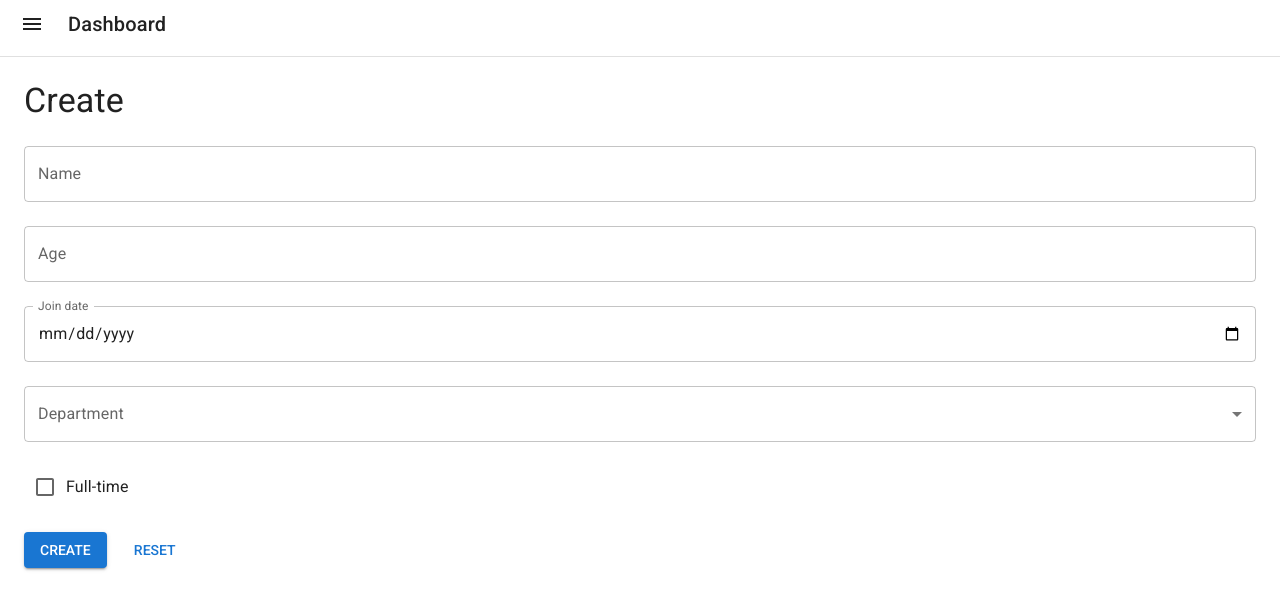
Scenario: EmployeeCreatePage › 作成失敗時はエラーを出して遷移しない
In the field labelled "Name": (640, 174) [24,146,1256,202], type "Ada Lovelace"
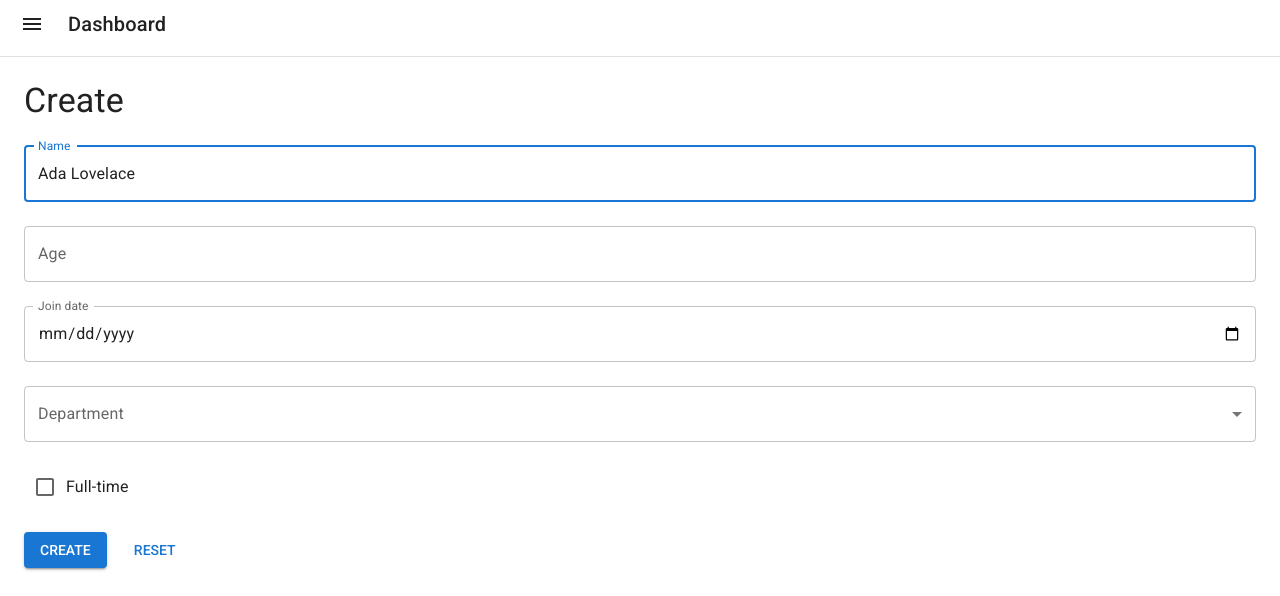
In the number field labelled "Age": (640, 254) [24,226,1256,282], type "36"
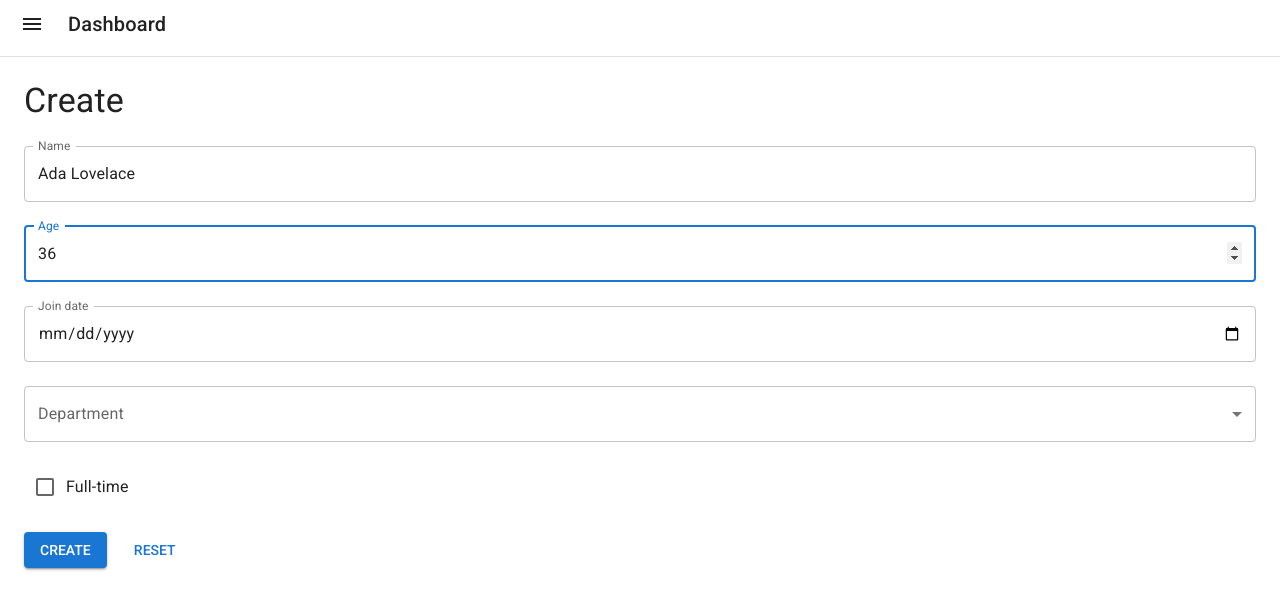
In the date field labelled "Join date": (640, 334) [24,306,1256,362], type "2026-01-15"
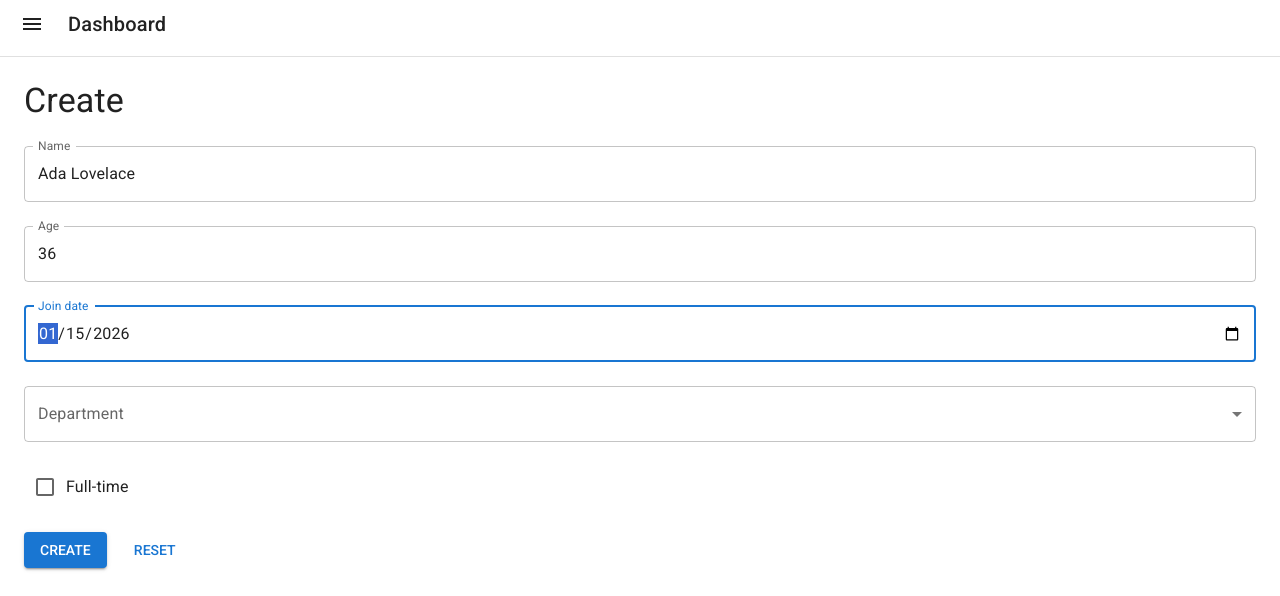
Click the dropdown named "Department": (640, 414) [24,386,1256,442]
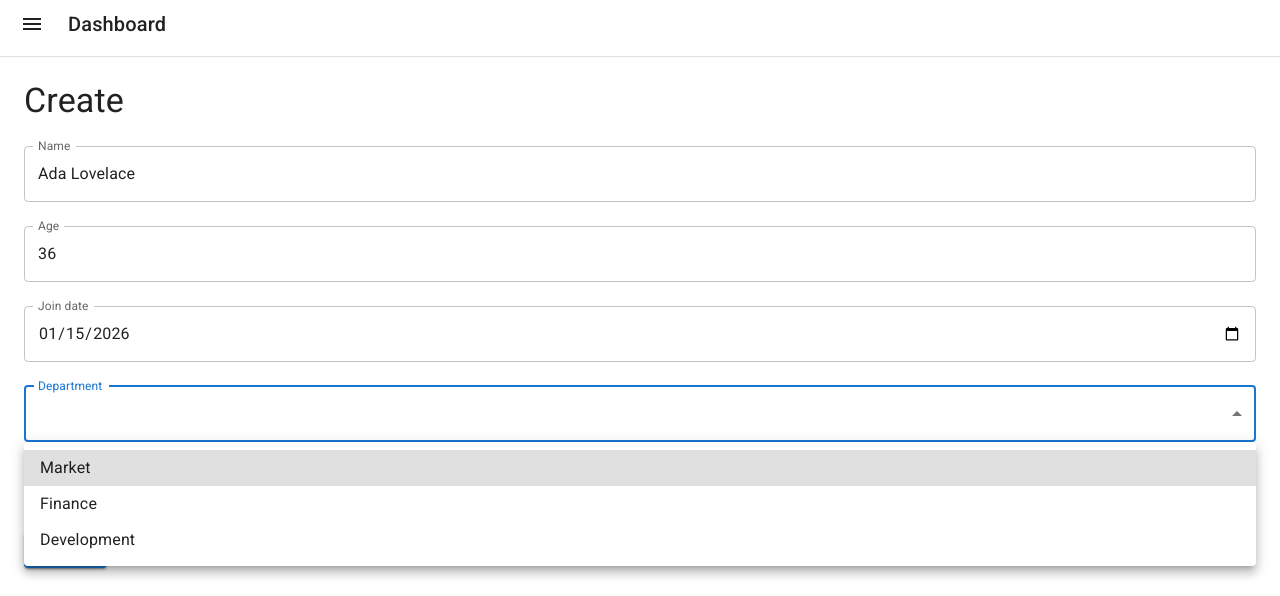
Click the option "Development": (88, 540) [40,530,135,549]
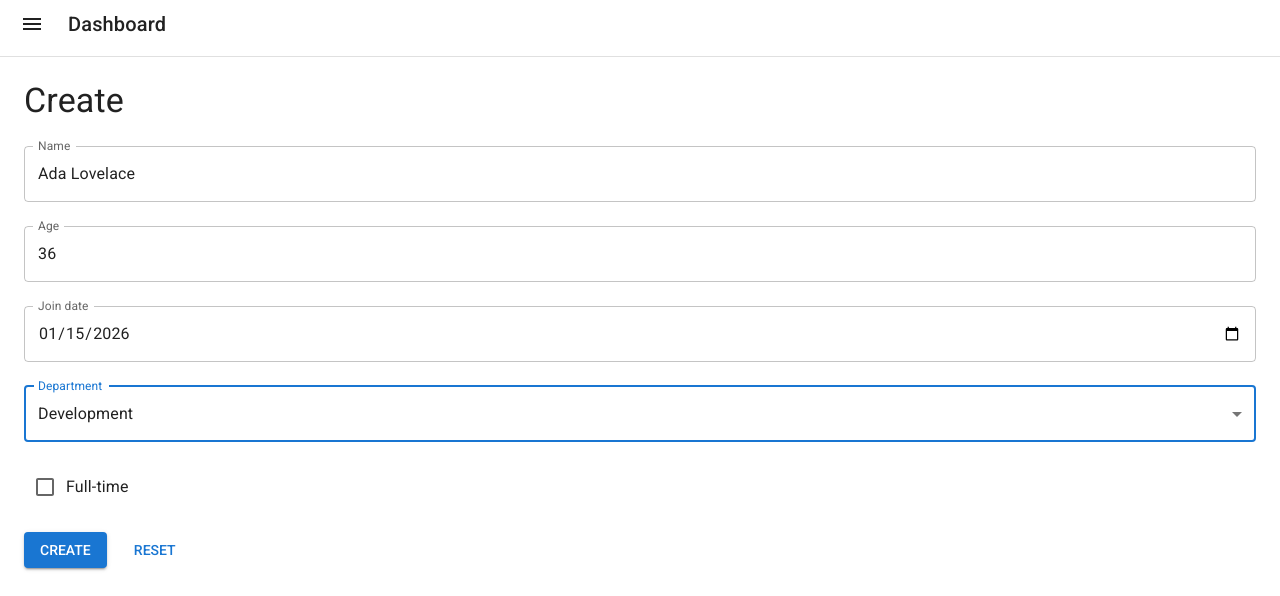
Click the button "Create": (65, 550) [24,532,107,568]
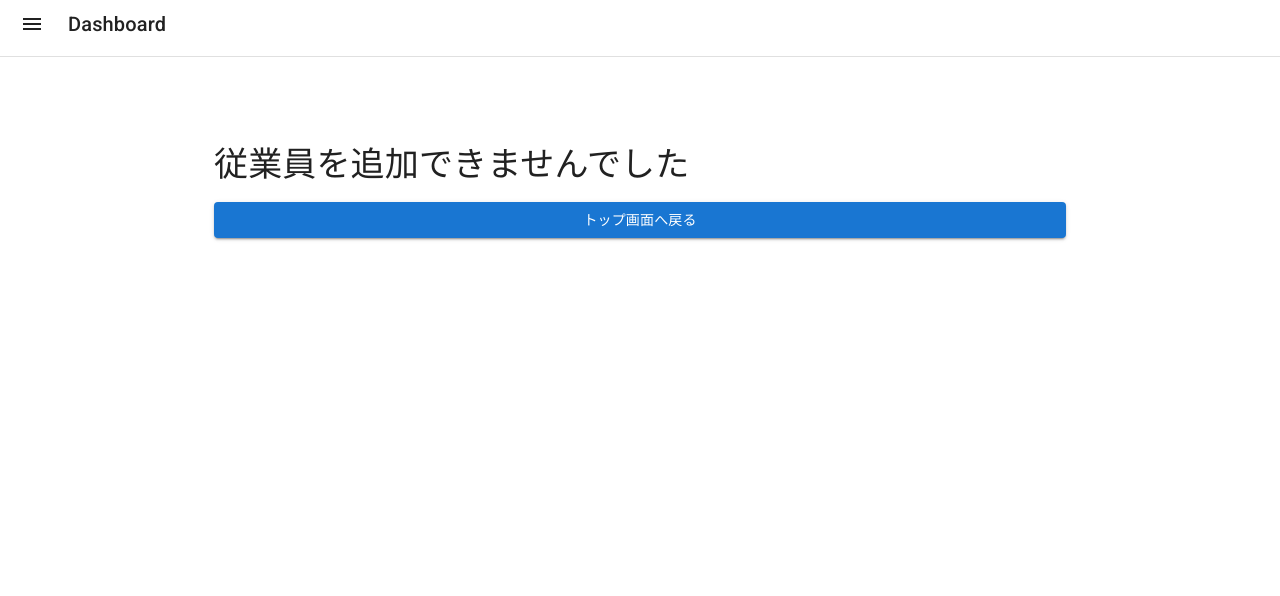
Result: the heading "従業員を追加できませんでした" is shown at [214,144,689,184]
Result: the heading "Create" is gone
